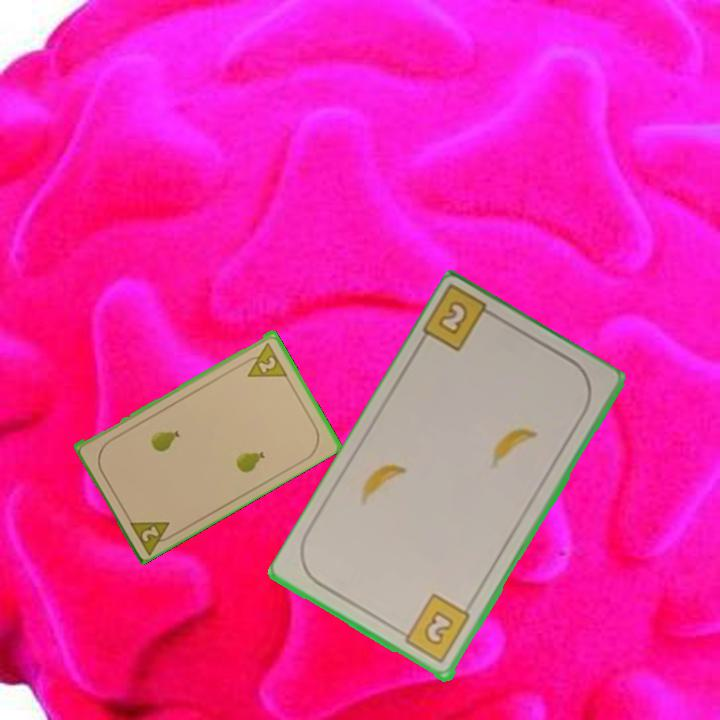2b: (394, 591, 474, 667), (419, 285, 503, 355)
2p: (125, 515, 180, 556), (239, 339, 290, 380)
